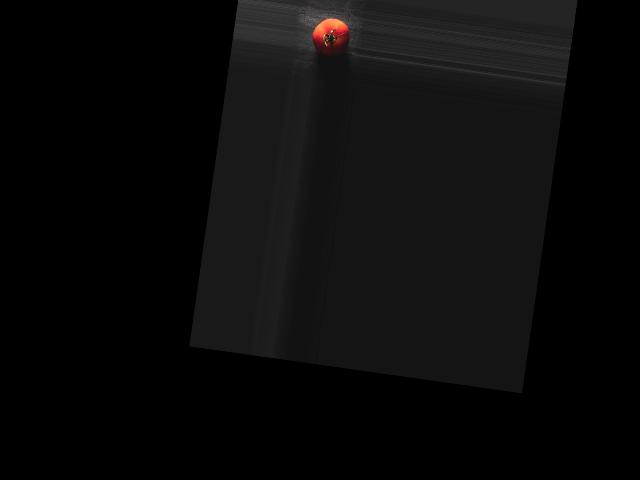tomato: (310, 16, 351, 58)
